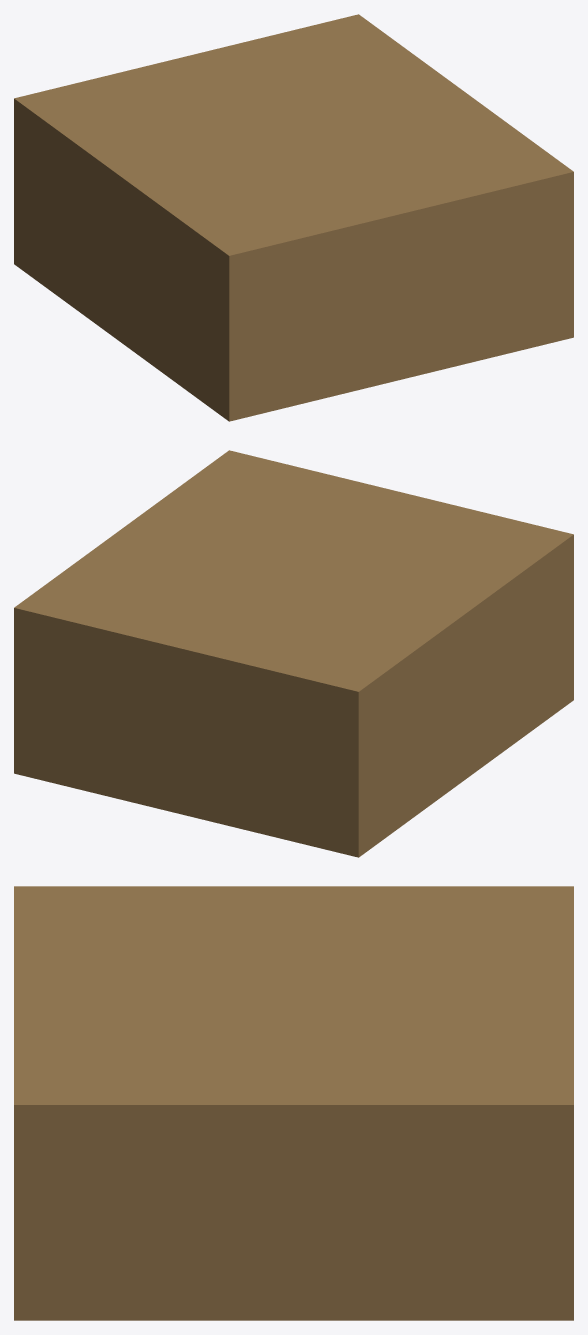
The model's file is prop_gamcho_pile_lod2.glb.
3 renders of one model, top to bottom at view 1: azimuth 30°, elevation 25°; view 2: azimuth 150°, elevation 25°; view 3: azimuth 270°, elevation 25°, orthographic. The views are drawn at different scales.
Visible parts, largest first — view 1: prop_gamcho_pile_lod2; view 2: prop_gamcho_pile_lod2; view 3: prop_gamcho_pile_lod2.
Boxes of the visible parts, x1,y1,x2,y2 form: prop_gamcho_pile_lod2: [14, 14, 573, 421]; prop_gamcho_pile_lod2: [14, 450, 573, 857]; prop_gamcho_pile_lod2: [14, 886, 573, 1320].
Bounding box in the file's own units: 0.37 × 0.17 × 0.4.
